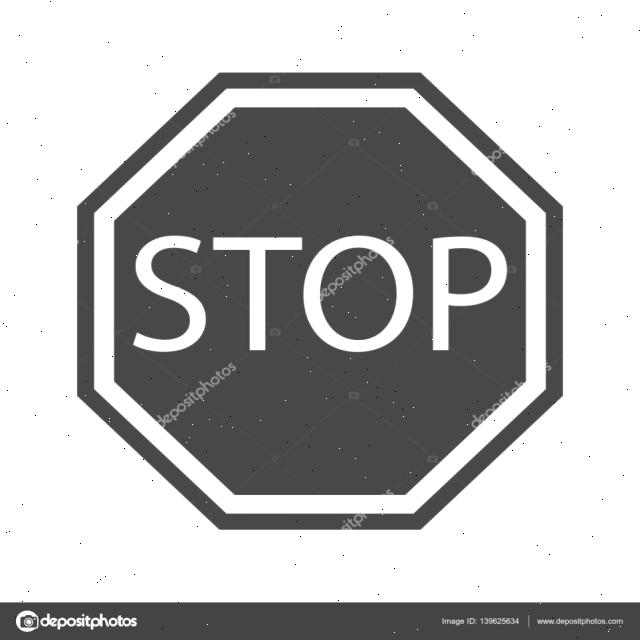Stop-sign: (54, 52, 579, 540)
